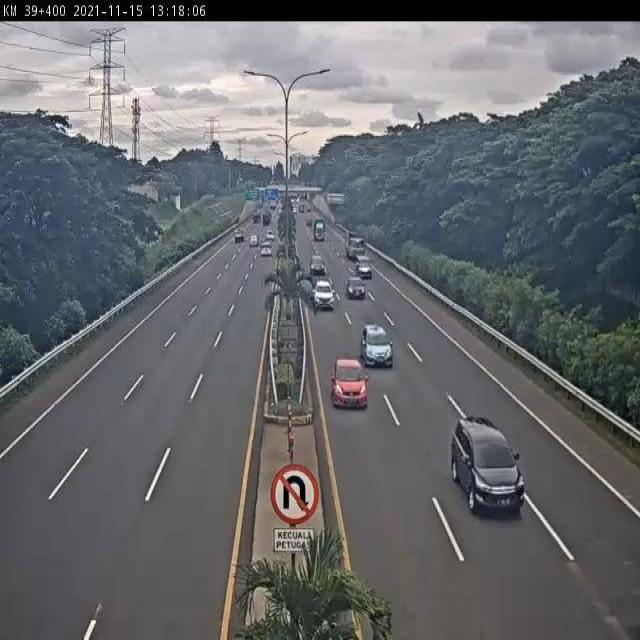car: (448, 415, 526, 517), (329, 356, 368, 413), (359, 321, 393, 368), (312, 278, 336, 310), (345, 275, 367, 301)
